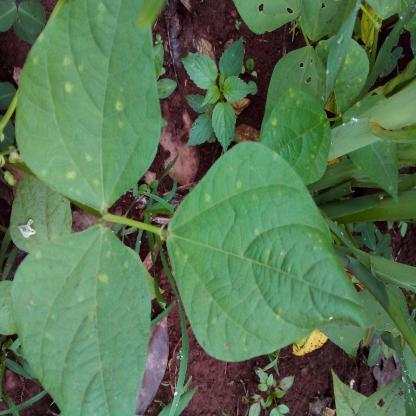Beans_Rust: (162, 143, 370, 360), (14, 0, 164, 212), (11, 225, 149, 416), (263, 90, 328, 182), (314, 36, 368, 114)
